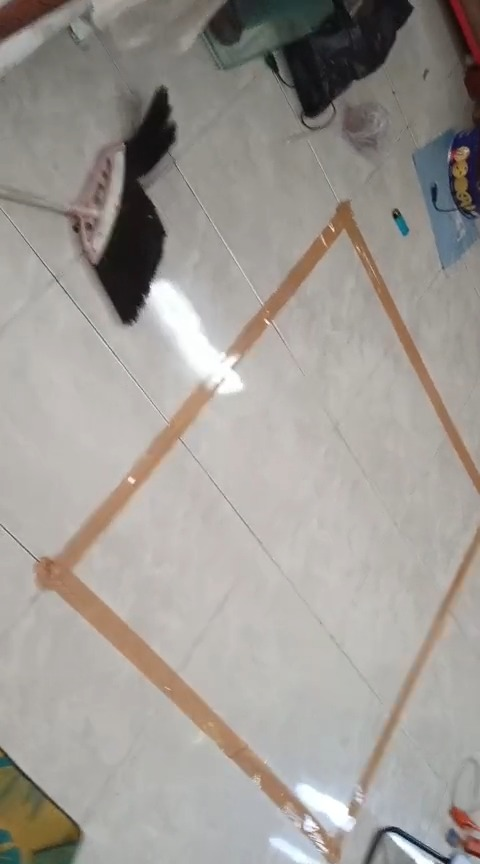floor marking: (36, 202, 479, 863), (347, 527, 479, 820)
